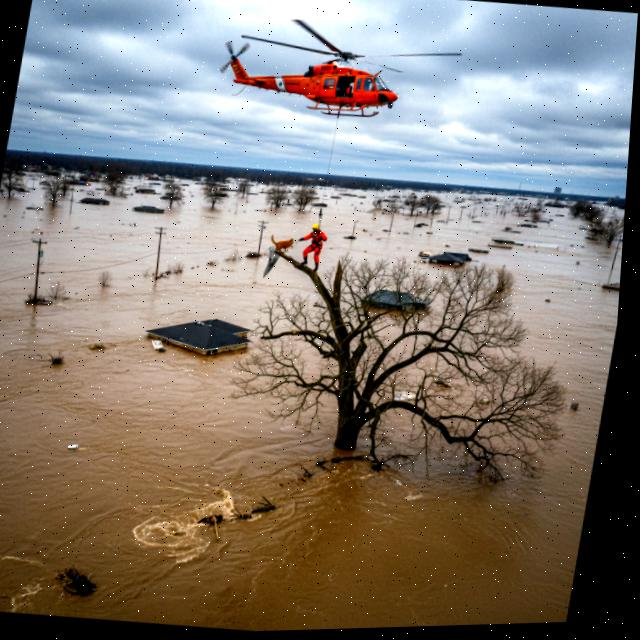cat: (266, 226, 299, 257)
rescuer: (291, 219, 338, 275)
